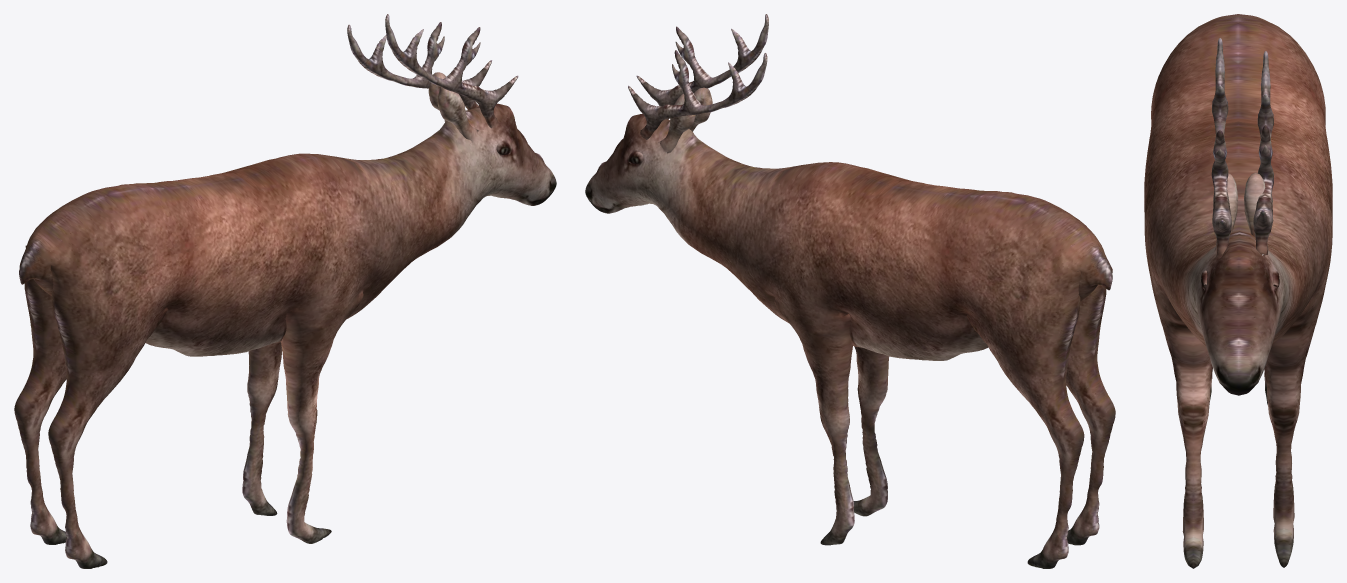
The model's file is deer.glb.
The picture shows the model from 3 angles, left to right: view 1: azimuth 30°, elevation 25°; view 2: azimuth 150°, elevation 25°; view 3: azimuth 270°, elevation 25°; orthographic projection. The views are drawn at different scales.
Size of the model in its own units: 8.37 by 7.47 by 2.21.
Materials: 1 (1 with a texture image).
